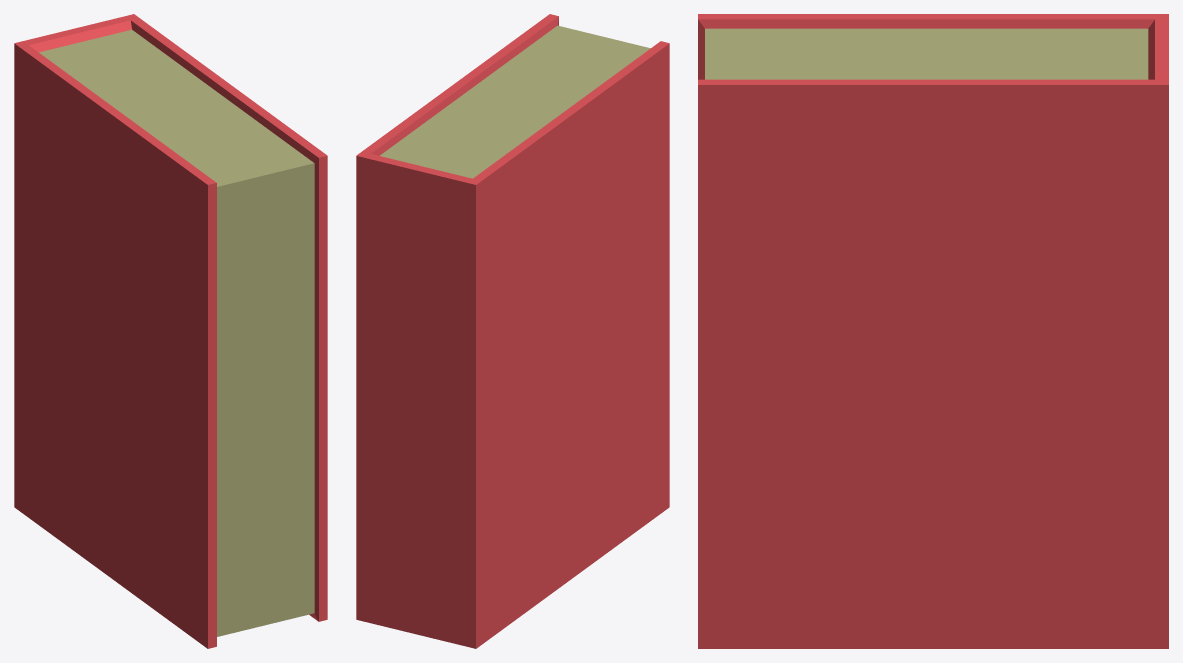
File: book.fbx
The picture shows the model from 3 angles, left to right: view 1: azimuth 30°, elevation 25°; view 2: azimuth 150°, elevation 25°; view 3: azimuth 270°, elevation 25°; orthographic projection. The views are drawn at different scales.
Visible parts, largest first — view 1: Book; view 2: Book; view 3: Book.
Boxes of the visible parts, box(x1,y1,x2,y2) form: Book: box(14, 14, 327, 648); Book: box(356, 14, 669, 648); Book: box(698, 14, 1168, 648).
Size of the model in its own units: 23.28 by 8.33 by 30.77.
